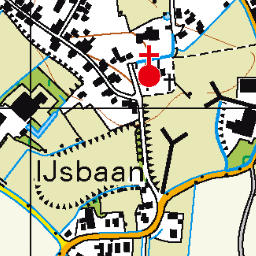church: (133, 42, 164, 90)
